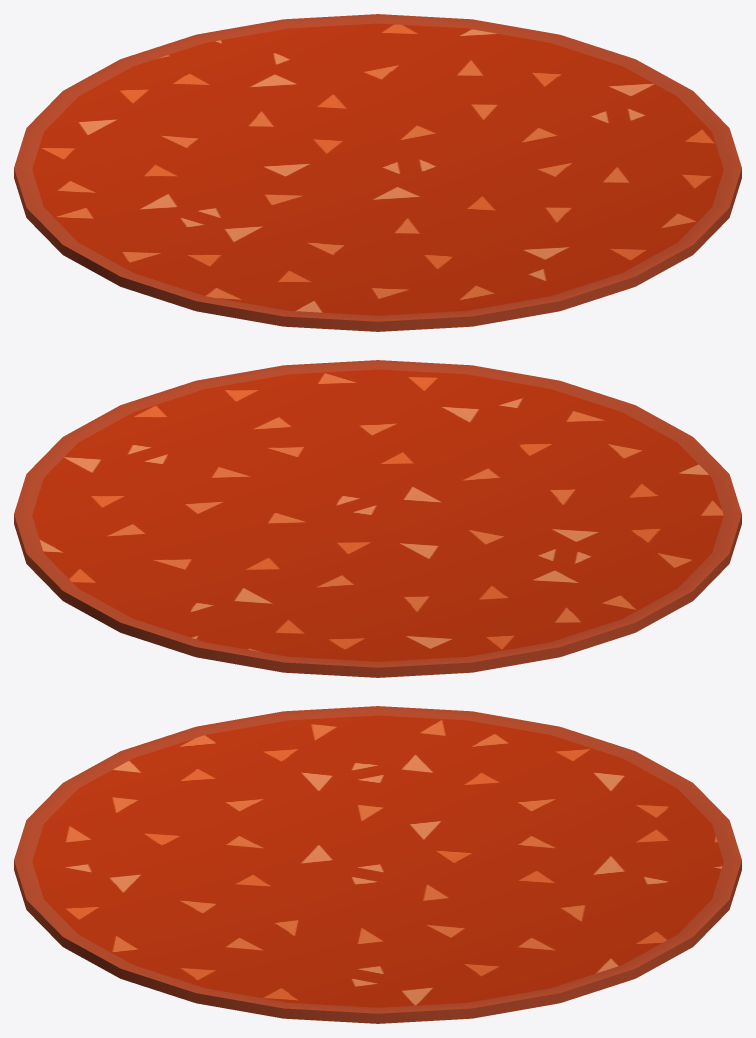
The model's file is carpet1.fbx.
3 renders of one model, top to bottom at view 1: azimuth 30°, elevation 25°; view 2: azimuth 150°, elevation 25°; view 3: azimuth 270°, elevation 25°, orthographic.
Parts seen in each view (by area): view 1: Cylinder; view 2: Cylinder; view 3: Cylinder.
Boxes of the visible parts, <box> form: Cylinder: <box>14,14,741,331</box>; Cylinder: <box>14,360,741,677</box>; Cylinder: <box>14,706,741,1023</box>.
Size of the model in its own units: 200 by 3.09 by 200.
Materials: 2 (1 with a texture image).
